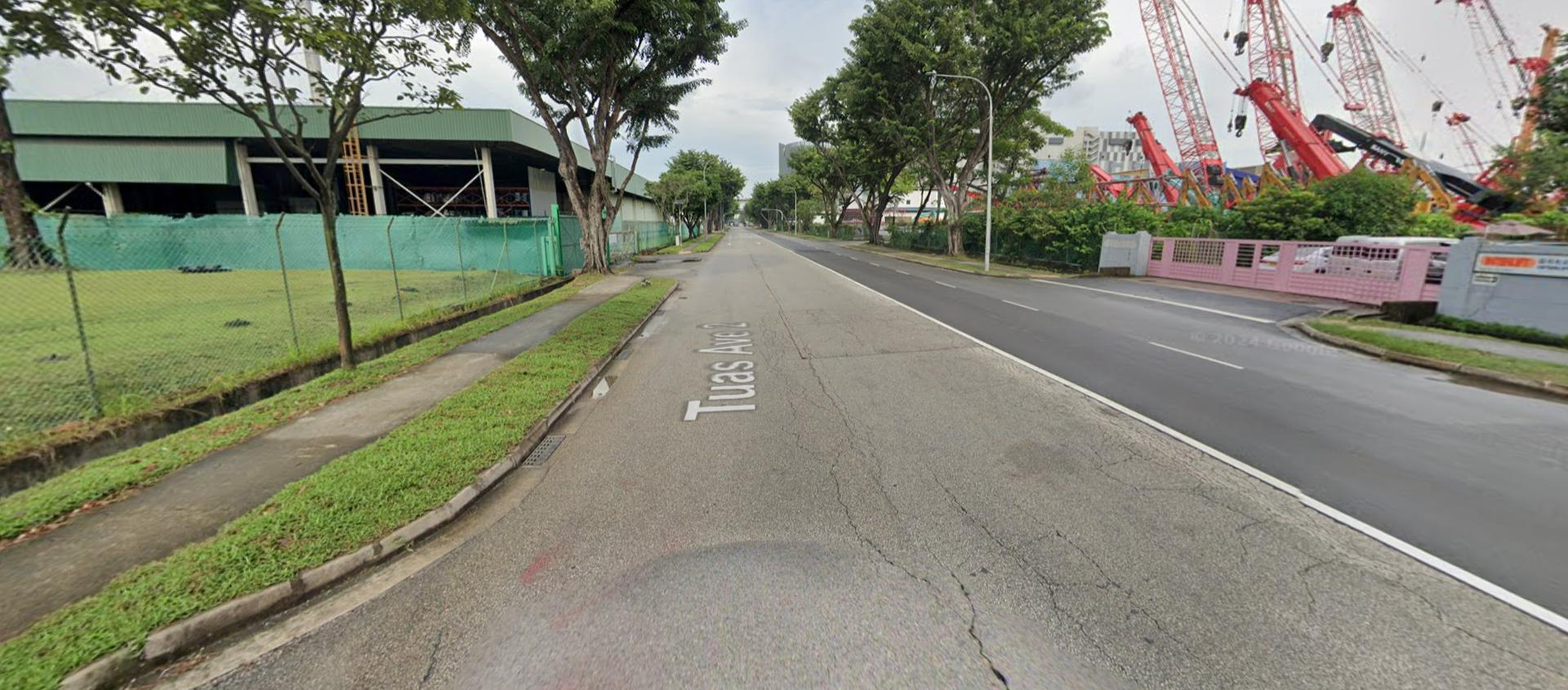defect: (522, 435, 568, 467)
